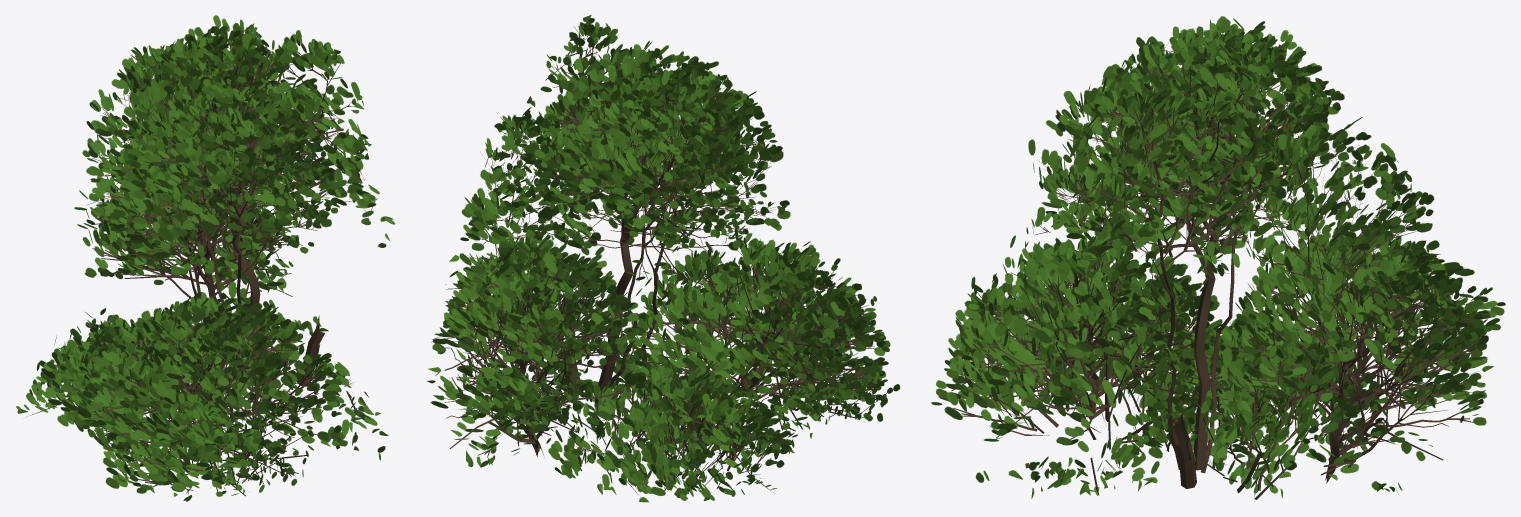
The picture shows the model from 3 angles, left to right: view 1: azimuth 30°, elevation 25°; view 2: azimuth 150°, elevation 25°; view 3: azimuth 270°, elevation 25°; orthographic projection. The views are drawn at different scales.
Parts seen in each view (by area): view 1: oak 01.001_trunk_Mat.001_0.325; view 2: oak 01.001_trunk_Mat.001_0.325; view 3: oak 01.001_trunk_Mat.001_0.325.
Part boxes in pixels (bbox=[...]): oak 01.001_trunk_Mat.001_0.325: bbox=[16, 15, 395, 501]; oak 01.001_trunk_Mat.001_0.325: bbox=[427, 15, 900, 502]; oak 01.001_trunk_Mat.001_0.325: bbox=[931, 16, 1505, 501].
Bounding box in the file's own units: 3.99 × 4.92 × 5.91.
Materials: 2 (1 with a texture image).
